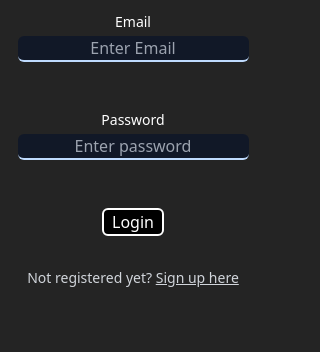
Test case: Inputs and button together with Login for › checks for errors
Click the button "Login". click: click(133, 222)
box: [102,208,164,236]
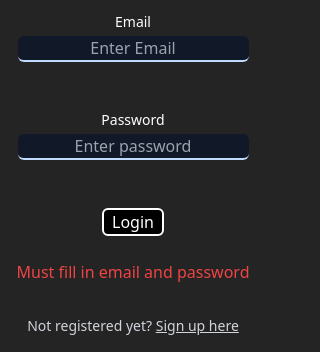
Result: the text "Must fill in email and password" is shown at [16,260,250,284]
